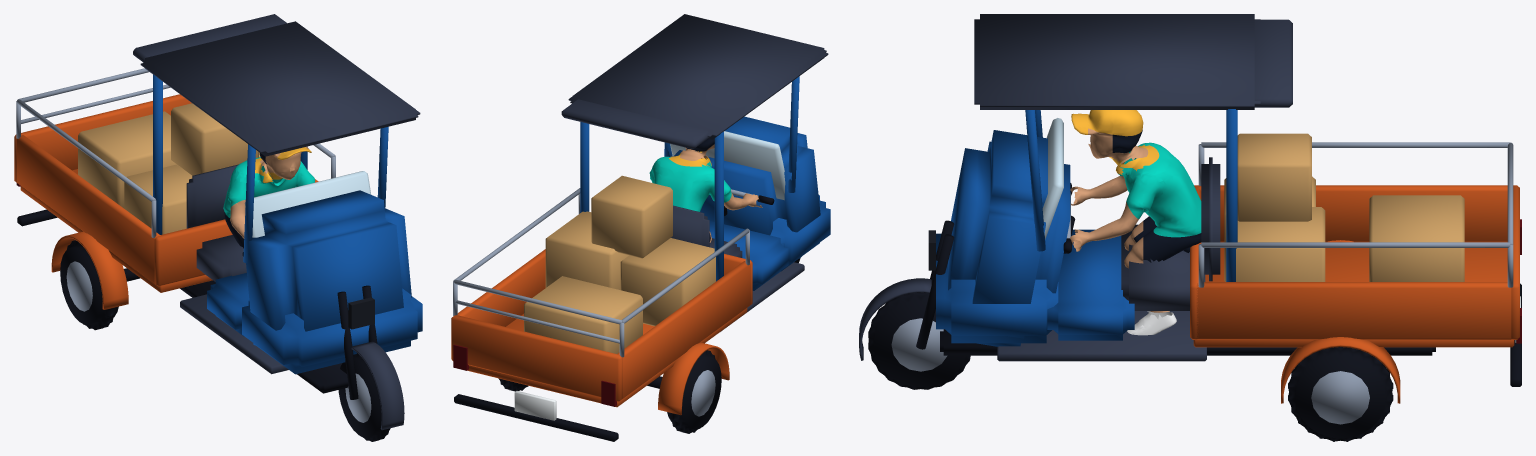
Rendered from rickshaw.glb.
The picture shows the model from 3 angles, left to right: view 1: azimuth 30°, elevation 25°; view 2: azimuth 150°, elevation 25°; view 3: azimuth 270°, elevation 25°; orthographic projection. The views are drawn at different scales.
Parts seen in each view (by area): view 1: Rickshaw_Body, Wheel_Rear_L, Wheel_Front, Lens_Head; view 2: Rickshaw_Body, Wheel_Rear_L, Lens_Tail; view 3: Rickshaw_Body, Wheel_Rear_R, Wheel_Front.
Boxes of the visible parts, <box> form: Rickshaw_Body: <box>14,14,422,430</box>; Wheel_Rear_L: <box>60,240,118,330</box>; Wheel_Front: <box>338,352,390,441</box>; Lens_Head: <box>348,297,374,329</box>; Rickshaw_Body: <box>451,14,830,441</box>; Wheel_Rear_L: <box>667,350,721,433</box>; Lens_Tail: <box>453,344,616,406</box>; Rickshaw_Body: <box>859,14,1521,403</box>; Wheel_Rear_R: <box>1288,347,1393,441</box>; Wheel_Front: <box>868,293,970,389</box>.
Bounding box in the file's own units: 1.45 × 1.92 × 3.47.
